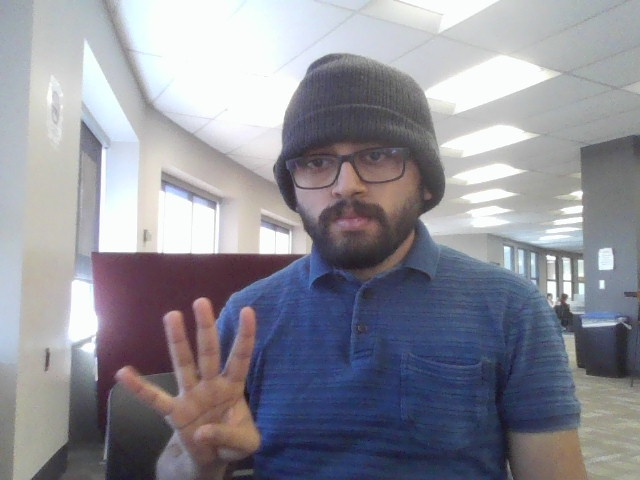start: (106, 291, 281, 469)
